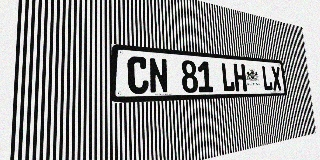1: (197, 61, 213, 92)
8: (181, 60, 198, 93)
C: (127, 56, 149, 94)
H: (233, 63, 247, 91)
L: (221, 62, 235, 92), (261, 65, 273, 91)
N: (149, 57, 169, 94)
X: (271, 66, 282, 90)
